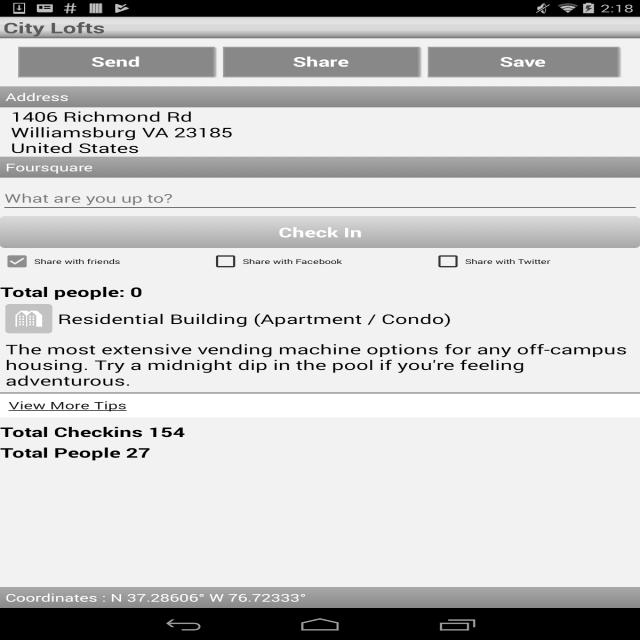Button: (0, 216, 640, 248), (18, 46, 218, 78), (223, 46, 422, 78), (428, 46, 622, 78)
CheckBox: (208, 251, 431, 272), (0, 251, 209, 272), (431, 251, 640, 272)
EditText: (0, 183, 640, 213)
ImageView: (5, 304, 52, 333)
TextView: (0, 337, 640, 392), (0, 107, 640, 157), (0, 86, 640, 108), (0, 156, 640, 178), (0, 17, 640, 38), (0, 587, 640, 608), (0, 423, 640, 443), (0, 282, 640, 300), (0, 444, 640, 462), (58, 310, 451, 328)
